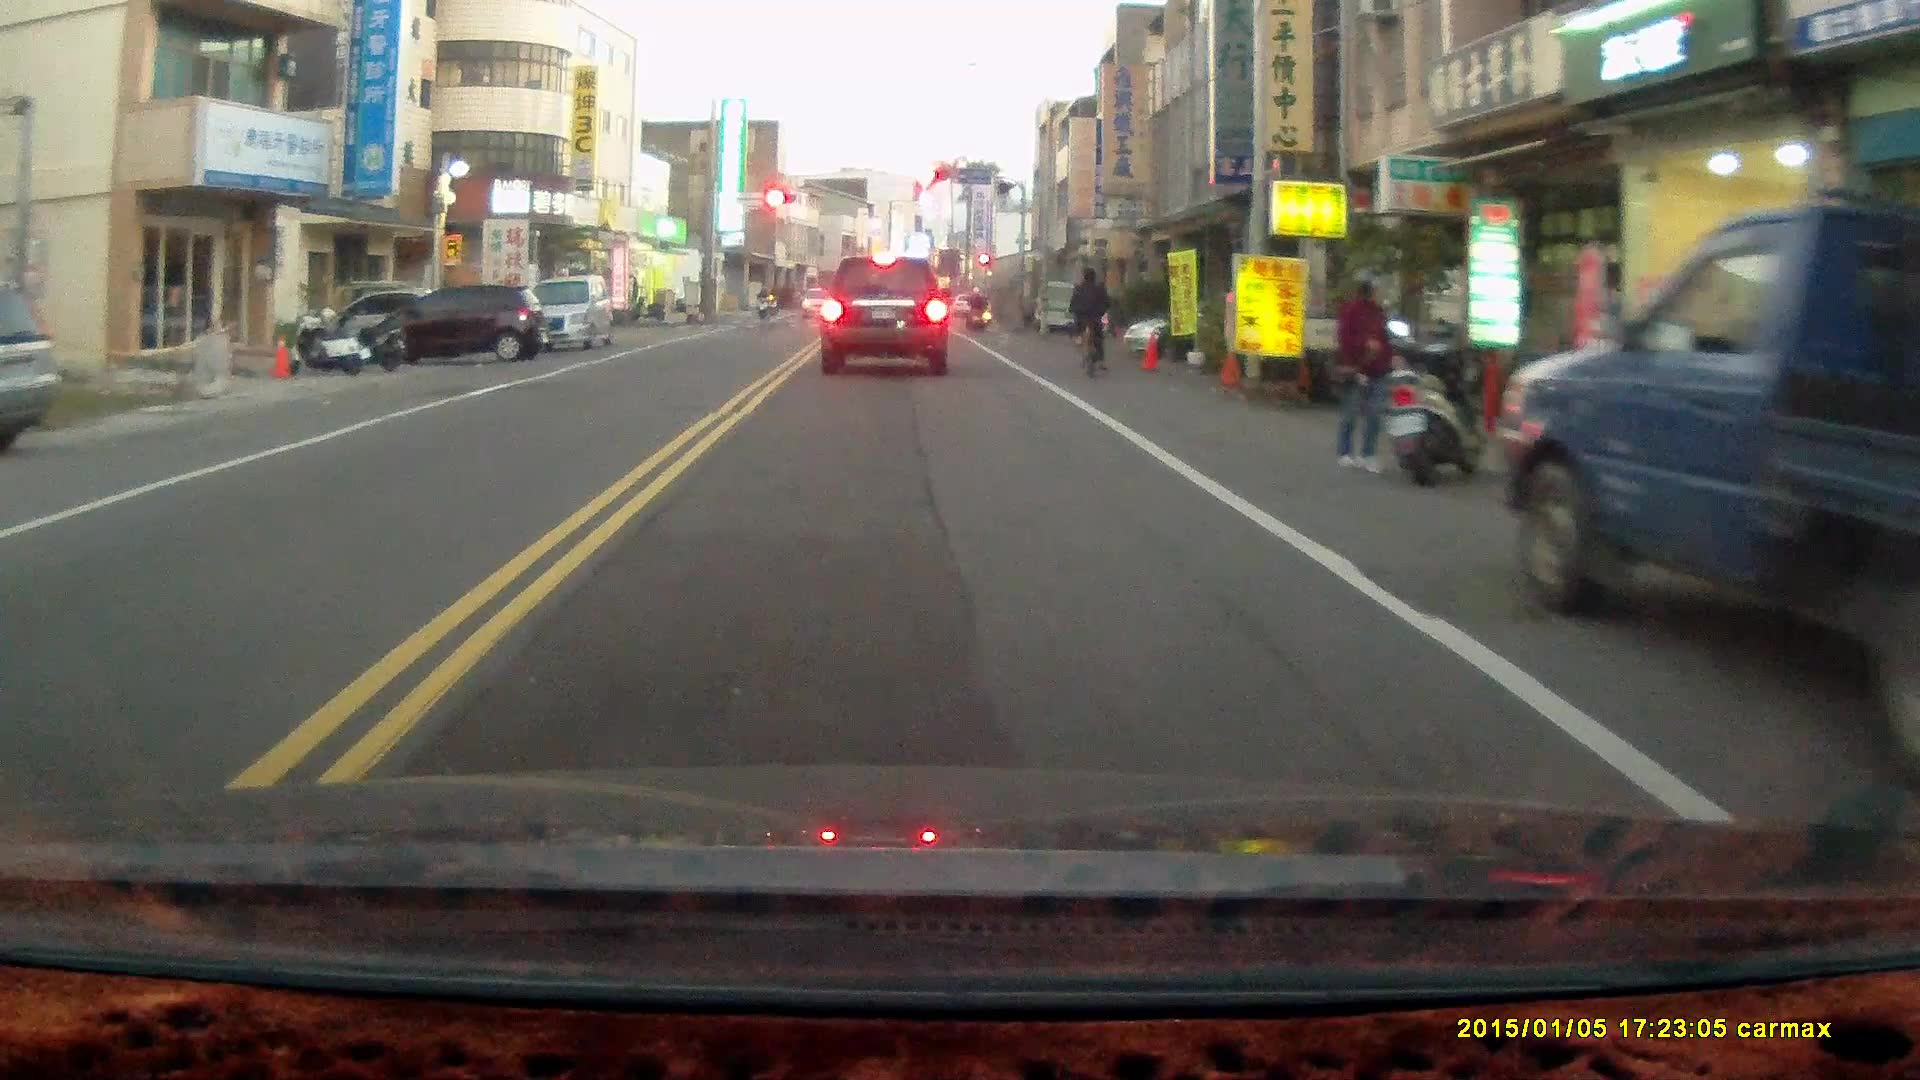pedestrian: (1335, 278, 1397, 473)
rider: (1067, 266, 1111, 377), (964, 284, 986, 334), (754, 285, 774, 320)
vehicle: (1496, 197, 1920, 715), (819, 257, 955, 378), (373, 283, 551, 371), (0, 277, 63, 453), (509, 274, 619, 359)
